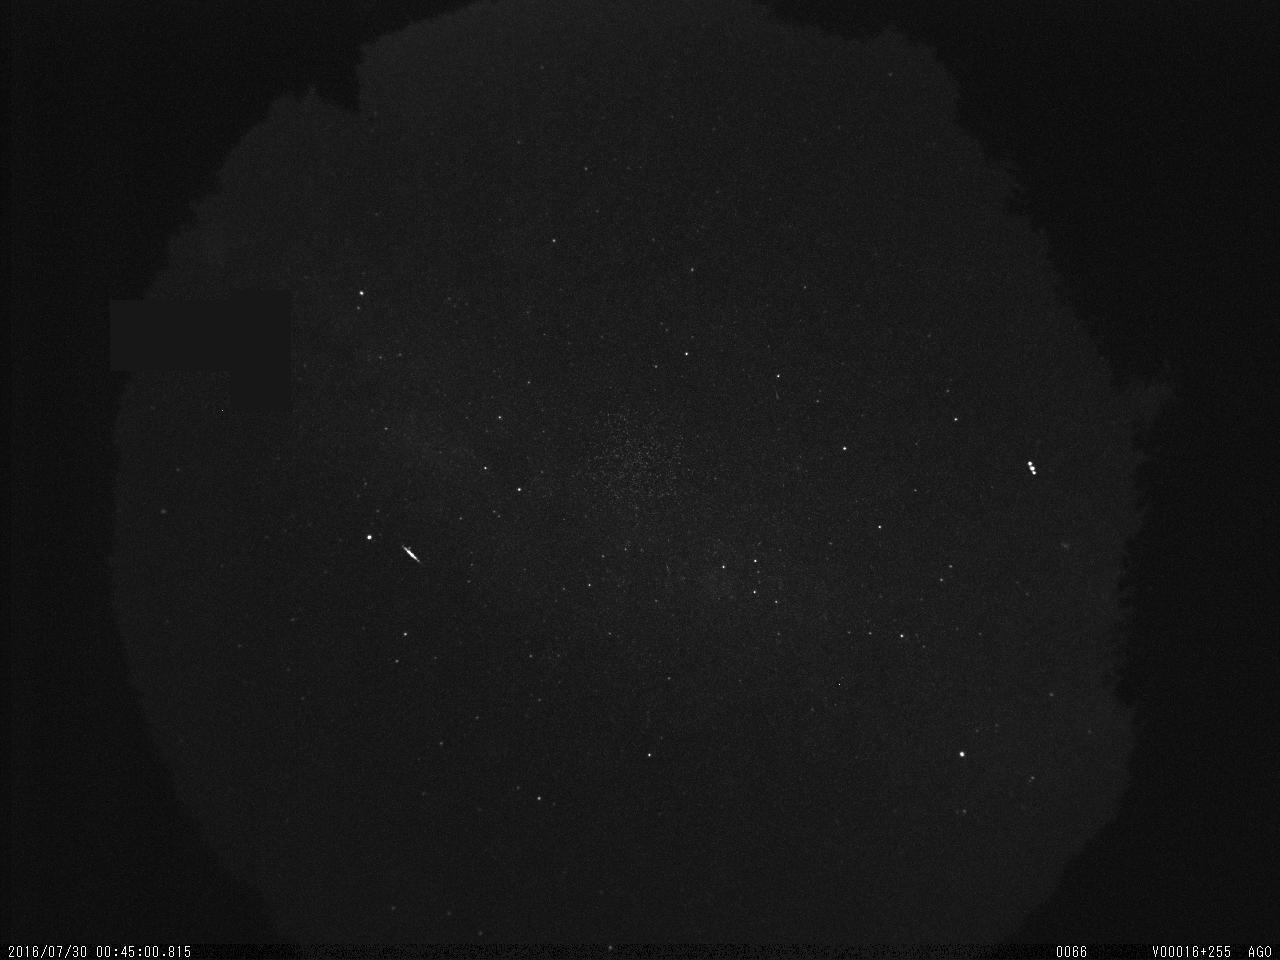meteor: (395, 537, 428, 571)
satelite: (1022, 455, 1042, 482)
